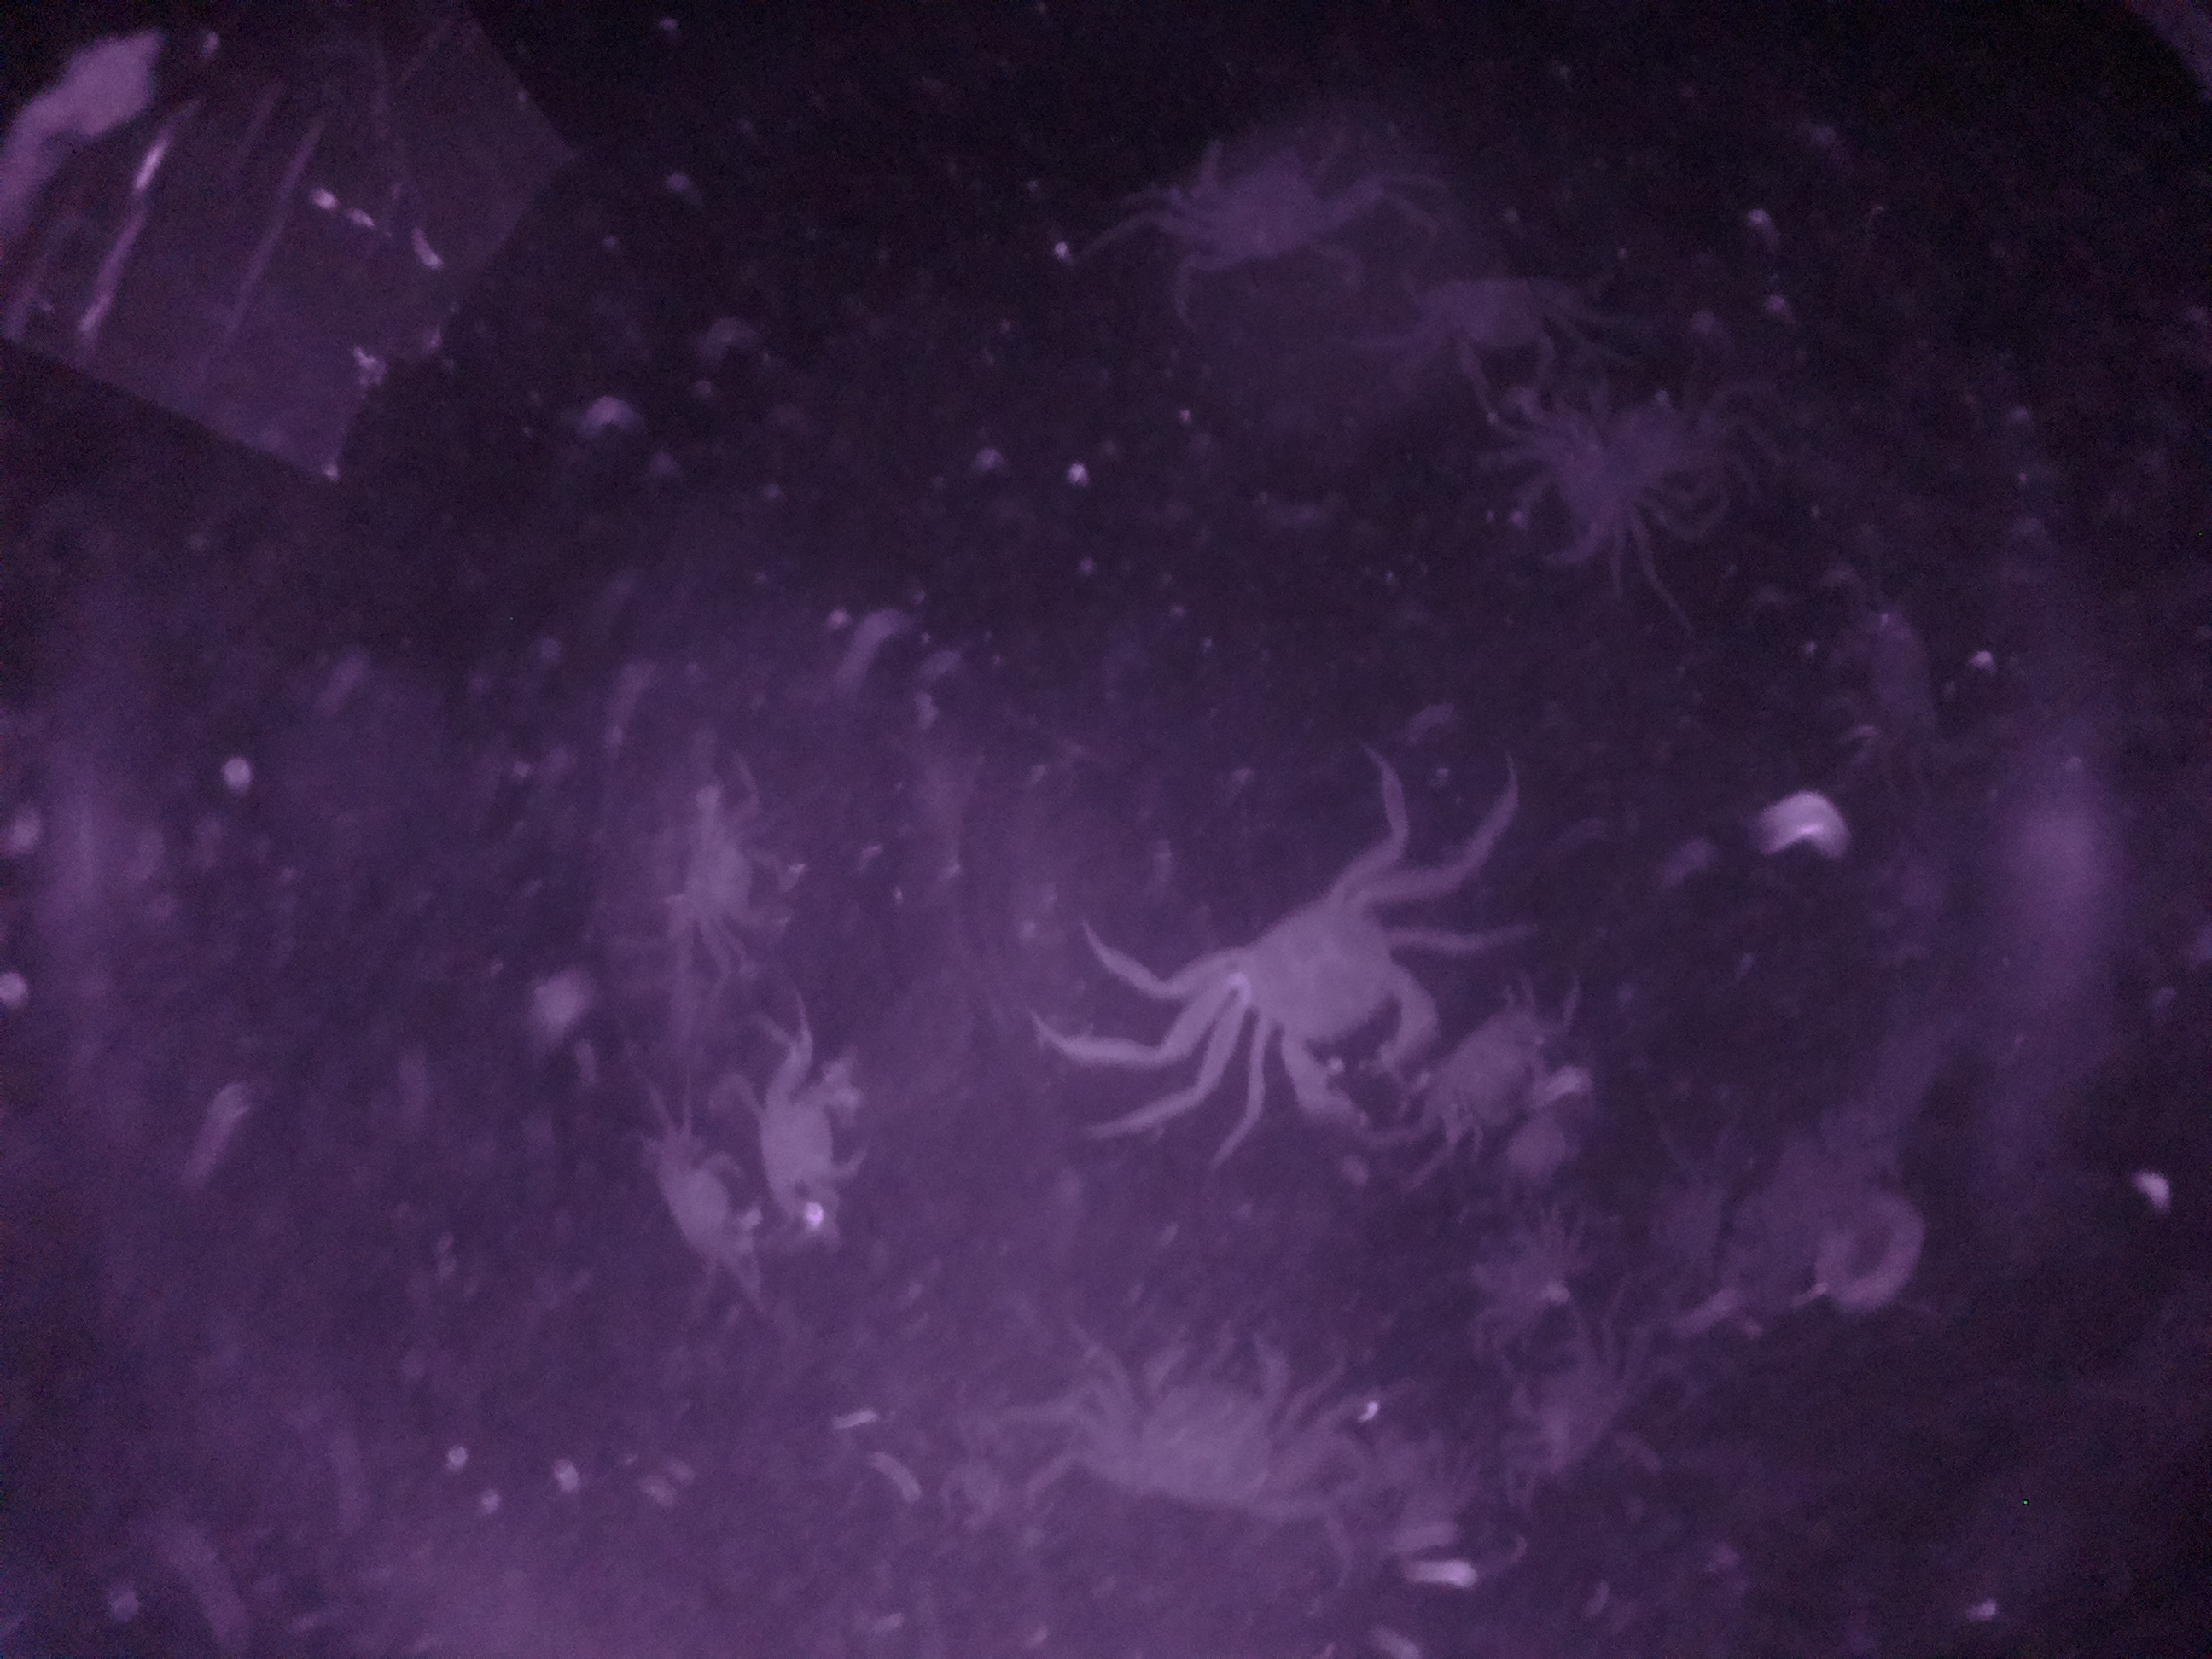Crab: (1170, 828, 1461, 1136), (1094, 1316, 1332, 1537), (1148, 125, 1369, 307)
